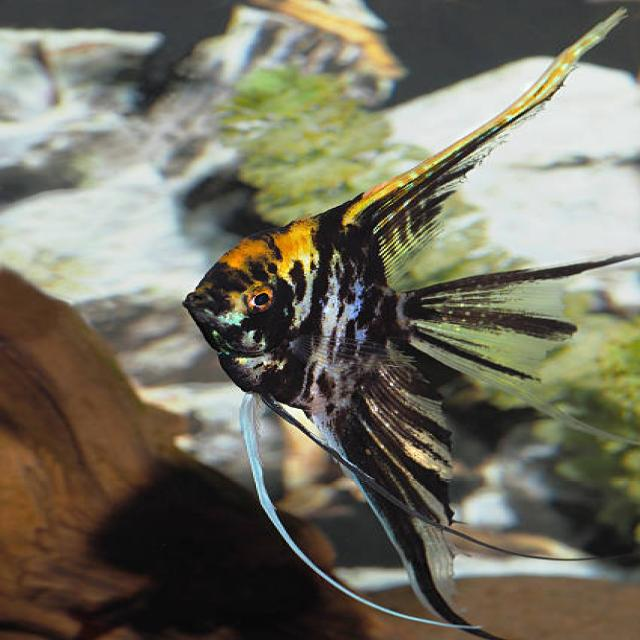AngelFish: (180, 10, 640, 639)
